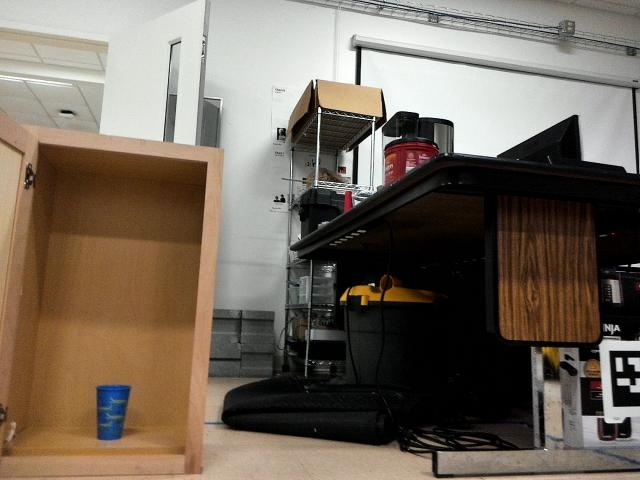water_cup: (91, 376, 134, 442)
